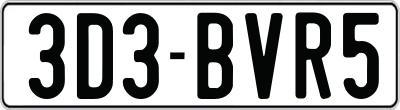3: (29, 11, 71, 99), (122, 10, 162, 97)
5: (342, 10, 381, 98)
B: (195, 12, 232, 99)
D: (77, 10, 113, 99)
R: (295, 9, 337, 97)
V: (245, 11, 283, 101)
